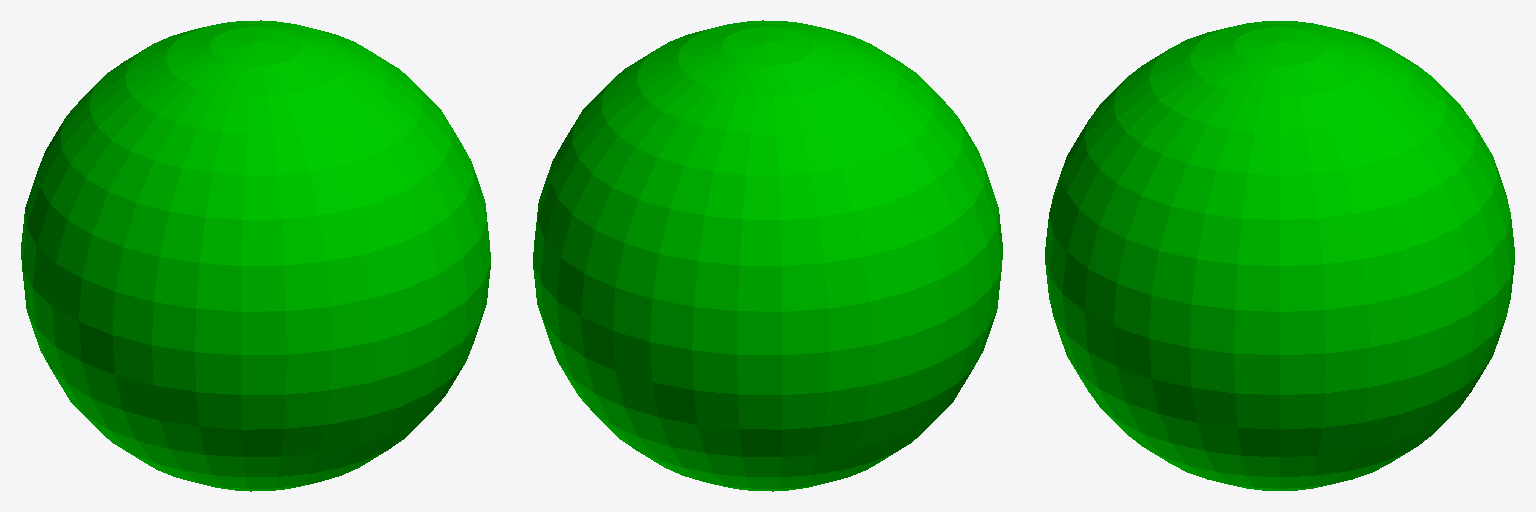
robot.urdf — simple_floating_spheres:
<robot name="simple_floating_spheres">
    <material name="green">
        <color rgba="0 0.8 0 1"/>
    </material>
    <link name="sphere_1">
 	    <inertial>
            <origin xyz="0 0 0" rpy="0 0 0"/>
            <mass value="7.23822947387" />
            <inertia ixx="0.00576" ixy="0.0" ixz="0.0" iyy="0.00576" iyz="0.0" izz="0.00576"/>
        </inertial>
        <collision>
            <origin xyz="1 0 0" rpy="0 0 0"/>
            <geometry>
                <sphere radius="0.12"/>
            </geometry>
        </collision>
        <visual>
            <origin rpy="0.0 0 0" xyz="0 0 0"/>
            <geometry>
                <sphere radius="0.12"/>
            </geometry>
            <material name="green"/>
        </visual>
    </link>
    
    <gazebo reference="sphere_1">
        <kp>100000.0</kp>
        <kd>100000.0</kd>
        <mu1>10.0</mu1>
        <mu2>10.0</mu2>
        <material>Gazebo/Green</material>
    </gazebo>

    
    <gazebo>
        <plugin name="buoyancy_sphere" filename="libBuoyancyPlugin.so">
          <fluid_density>1000</fluid_density>
        </plugin>
    </gazebo>

</robot>

--- Facts derived from the render (not from the file) ---
Views: 3 orthographic renders of the robot side by side, from view 1: azimuth 30°, elevation 25°; view 2: azimuth 150°, elevation 25°; view 3: azimuth 270°, elevation 25°.
Robot: simple_floating_spheres — 1 links, 0 joints (none); root link sphere_1; default pose: every joint at zero.
Visible links, largest first — view 1: sphere_1; view 2: sphere_1; view 3: sphere_1.
Link boxes in pixels (<box>): sphere_1: <box>21,20,490,491</box>; sphere_1: <box>533,20,1002,491</box>; sphere_1: <box>1045,21,1514,490</box>.
Size in the robot's own frame: 0.24 by 0.24 by 0.24 metres.
Geometry: primitives only (box / cylinder / sphere), no mesh files.